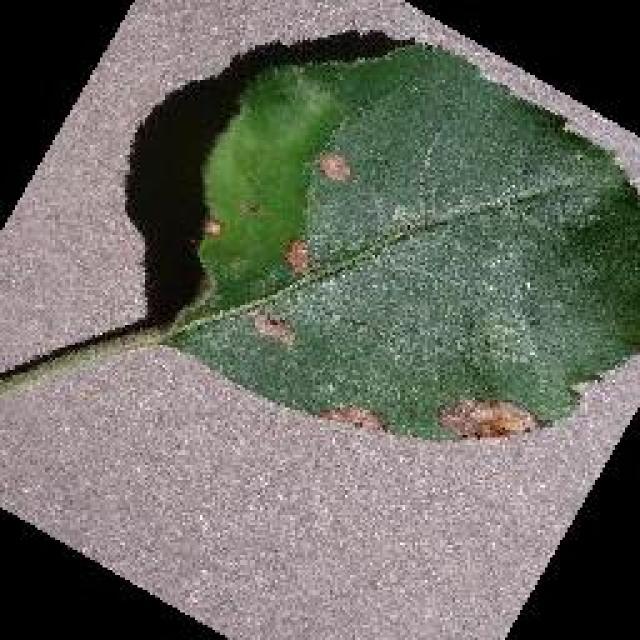Black_rot: (0, 0, 638, 638), (158, 38, 638, 440)
